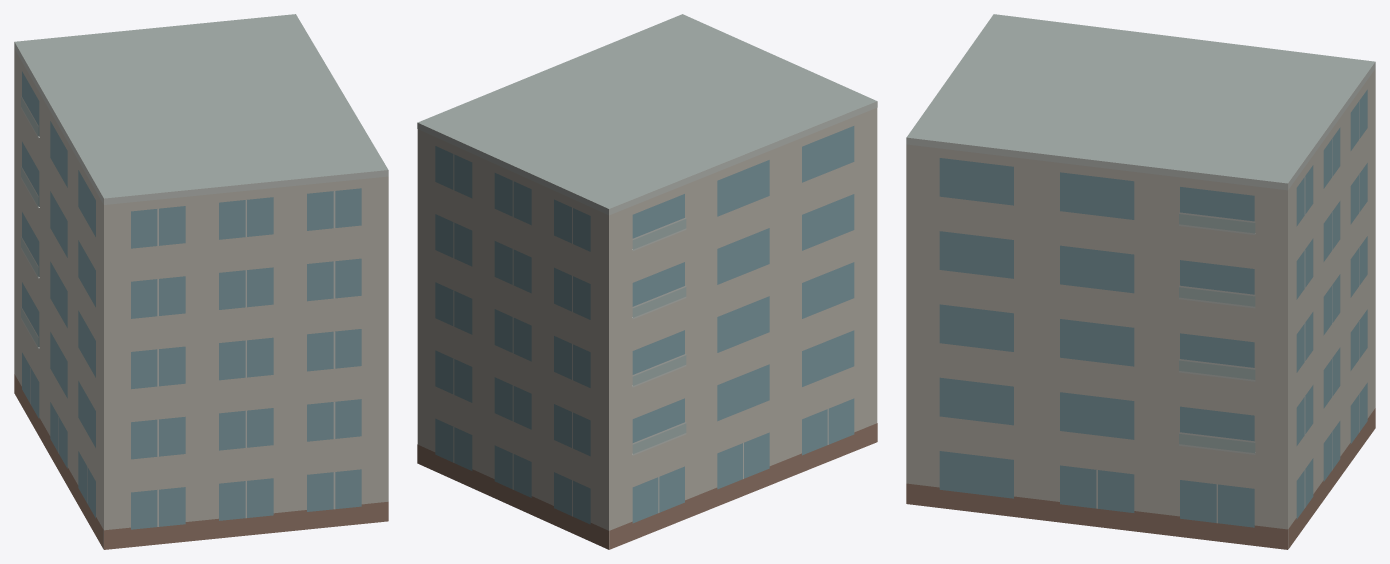
File: survey-upis-32880555.glb
The picture shows the model from 3 angles, left to right: view 1: azimuth 30°, elevation 25°; view 2: azimuth 150°, elevation 25°; view 3: azimuth 270°, elevation 25°; orthographic projection. The views are drawn at different scales.
Parts seen in each view (by area): view 1: survey-upis-32880555.tmp; view 2: survey-upis-32880555.tmp; view 3: survey-upis-32880555.tmp.
Part boxes in pixels (x1,y1,x2,y2): survey-upis-32880555.tmp: (14,14,388,549); survey-upis-32880555.tmp: (417,14,877,549); survey-upis-32880555.tmp: (906,14,1375,549).
Bounding box in the file's own units: 13.01 × 13.1 × 15.22.
